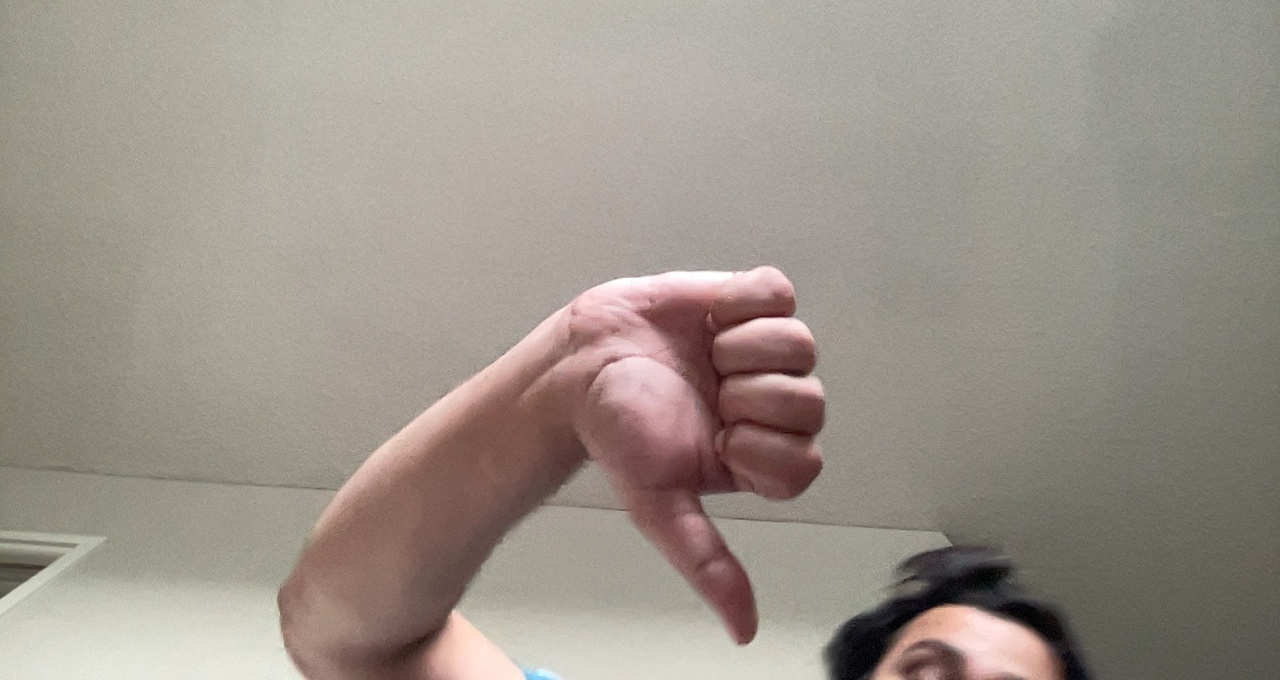thumbsdown: (563, 253, 842, 653)
